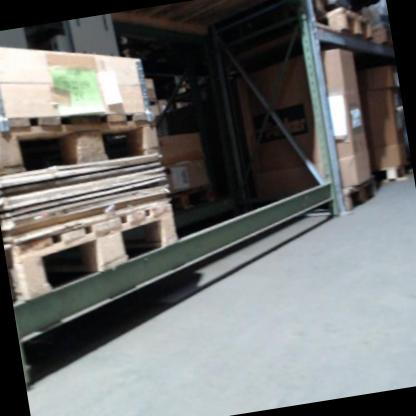pallet: (4, 199, 183, 302), (0, 93, 162, 183), (313, 0, 373, 49), (165, 180, 216, 217), (339, 173, 379, 212), (376, 162, 411, 182)
